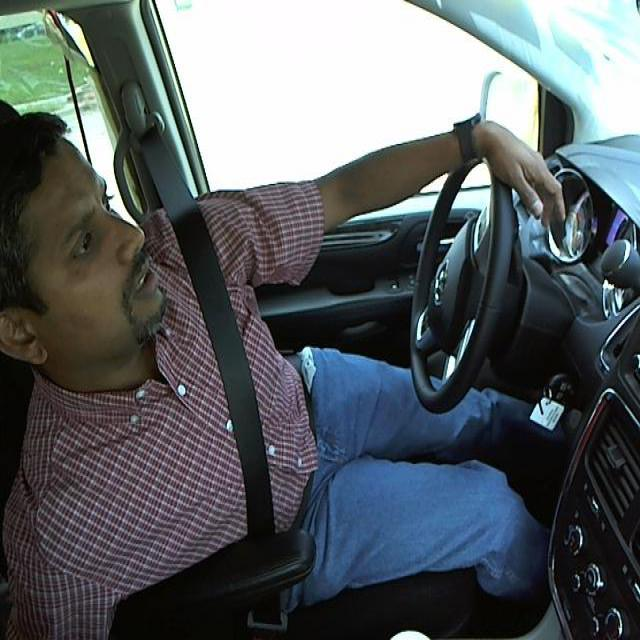seatbelt: (169, 231, 293, 538)
